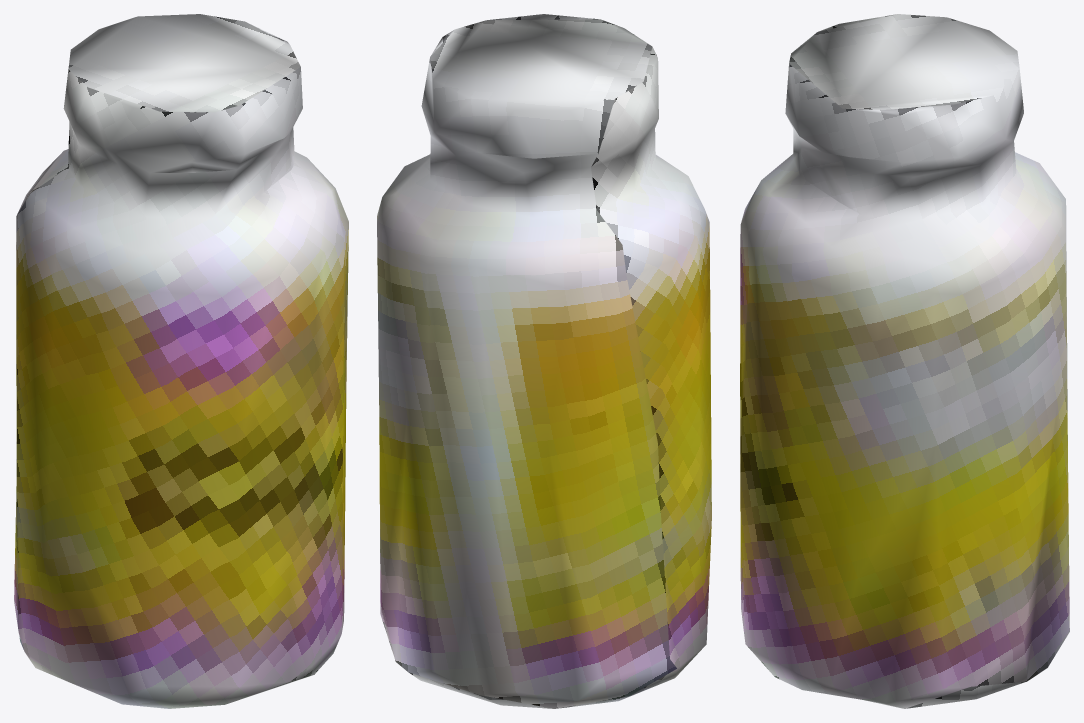
Rendered from JarroDophilusFOS_Value_Size-low.glb.
3 views of the same model, side by side, from view 1: azimuth 30°, elevation 25°; view 2: azimuth 150°, elevation 25°; view 3: azimuth 270°, elevation 25° (orthographic).
Visible parts, largest first — view 1: JarroDophilusFOS_Value_Size; view 2: JarroDophilusFOS_Value_Size; view 3: JarroDophilusFOS_Value_Size.
Part boxes in pixels (box(x1,y1,x2,y2)): JarroDophilusFOS_Value_Size: box(14, 14, 348, 708); JarroDophilusFOS_Value_Size: box(377, 14, 711, 708); JarroDophilusFOS_Value_Size: box(740, 14, 1069, 708).
Size of the model in its own units: 0.0661 by 0.1283 by 0.065.
Materials: 1 (1 with a texture image).
